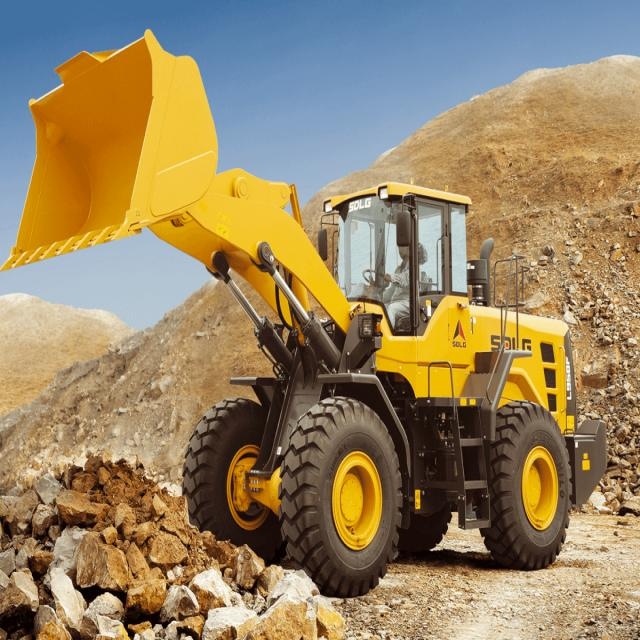buldozerpayloadergrader: (10, 31, 609, 599)
